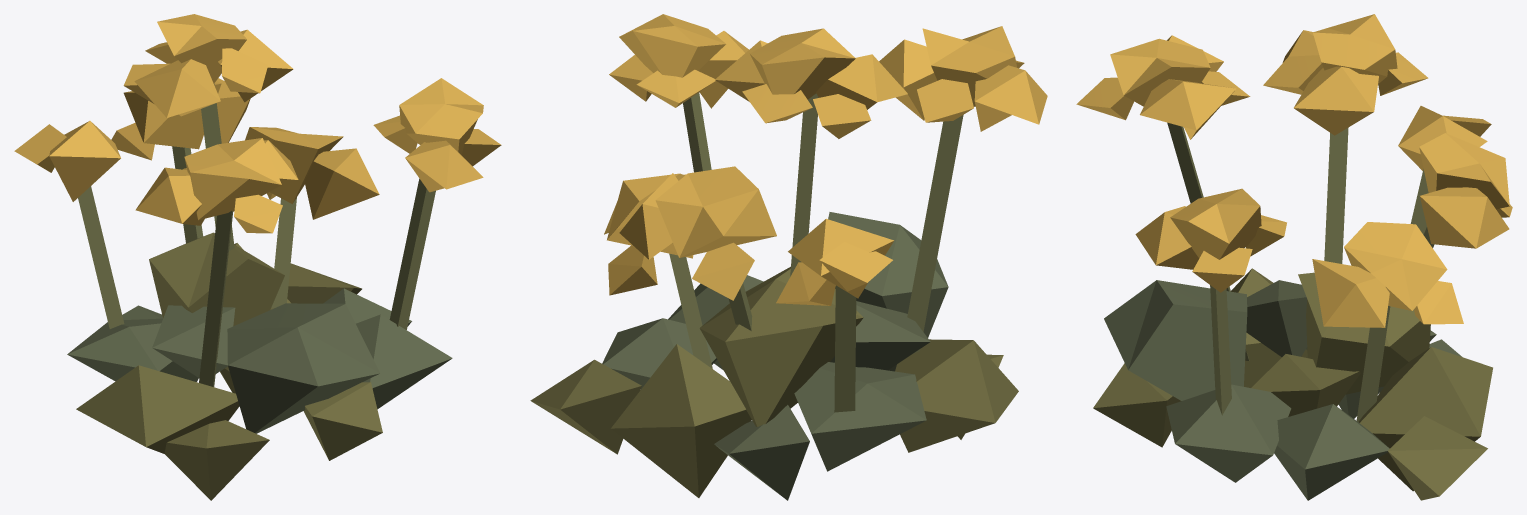
File: SM_Env_Flowers_01.obj
The picture shows the model from 3 angles, left to right: view 1: azimuth 30°, elevation 25°; view 2: azimuth 150°, elevation 25°; view 3: azimuth 270°, elevation 25°; orthographic projection. The views are drawn at different scales.
Parts seen in each view (by area): view 1: SM_Env_Flowers_01_0; view 2: SM_Env_Flowers_01_0; view 3: SM_Env_Flowers_01_0.
Boxes of the visible parts, x1,y1,x2,y2 form: SM_Env_Flowers_01_0: (14,14,501,500); SM_Env_Flowers_01_0: (530,14,1047,500); SM_Env_Flowers_01_0: (1076,14,1512,500).
Bounding box in the file's own units: 1.06 × 1.11 × 1.02.
Materials: 1 (1 with a texture image).
